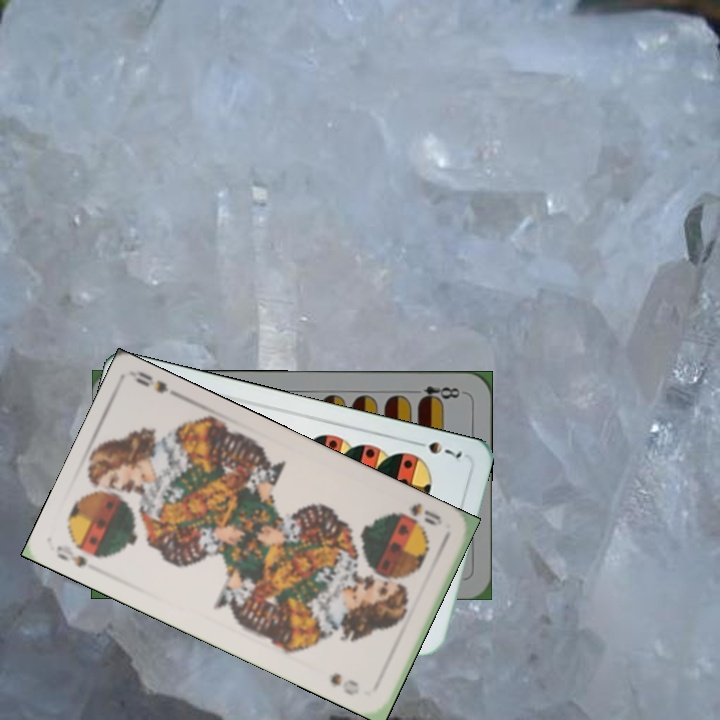E8: (407, 382, 466, 405)
S7: (409, 437, 465, 461)
SO: (406, 498, 445, 529), (51, 541, 90, 570)
